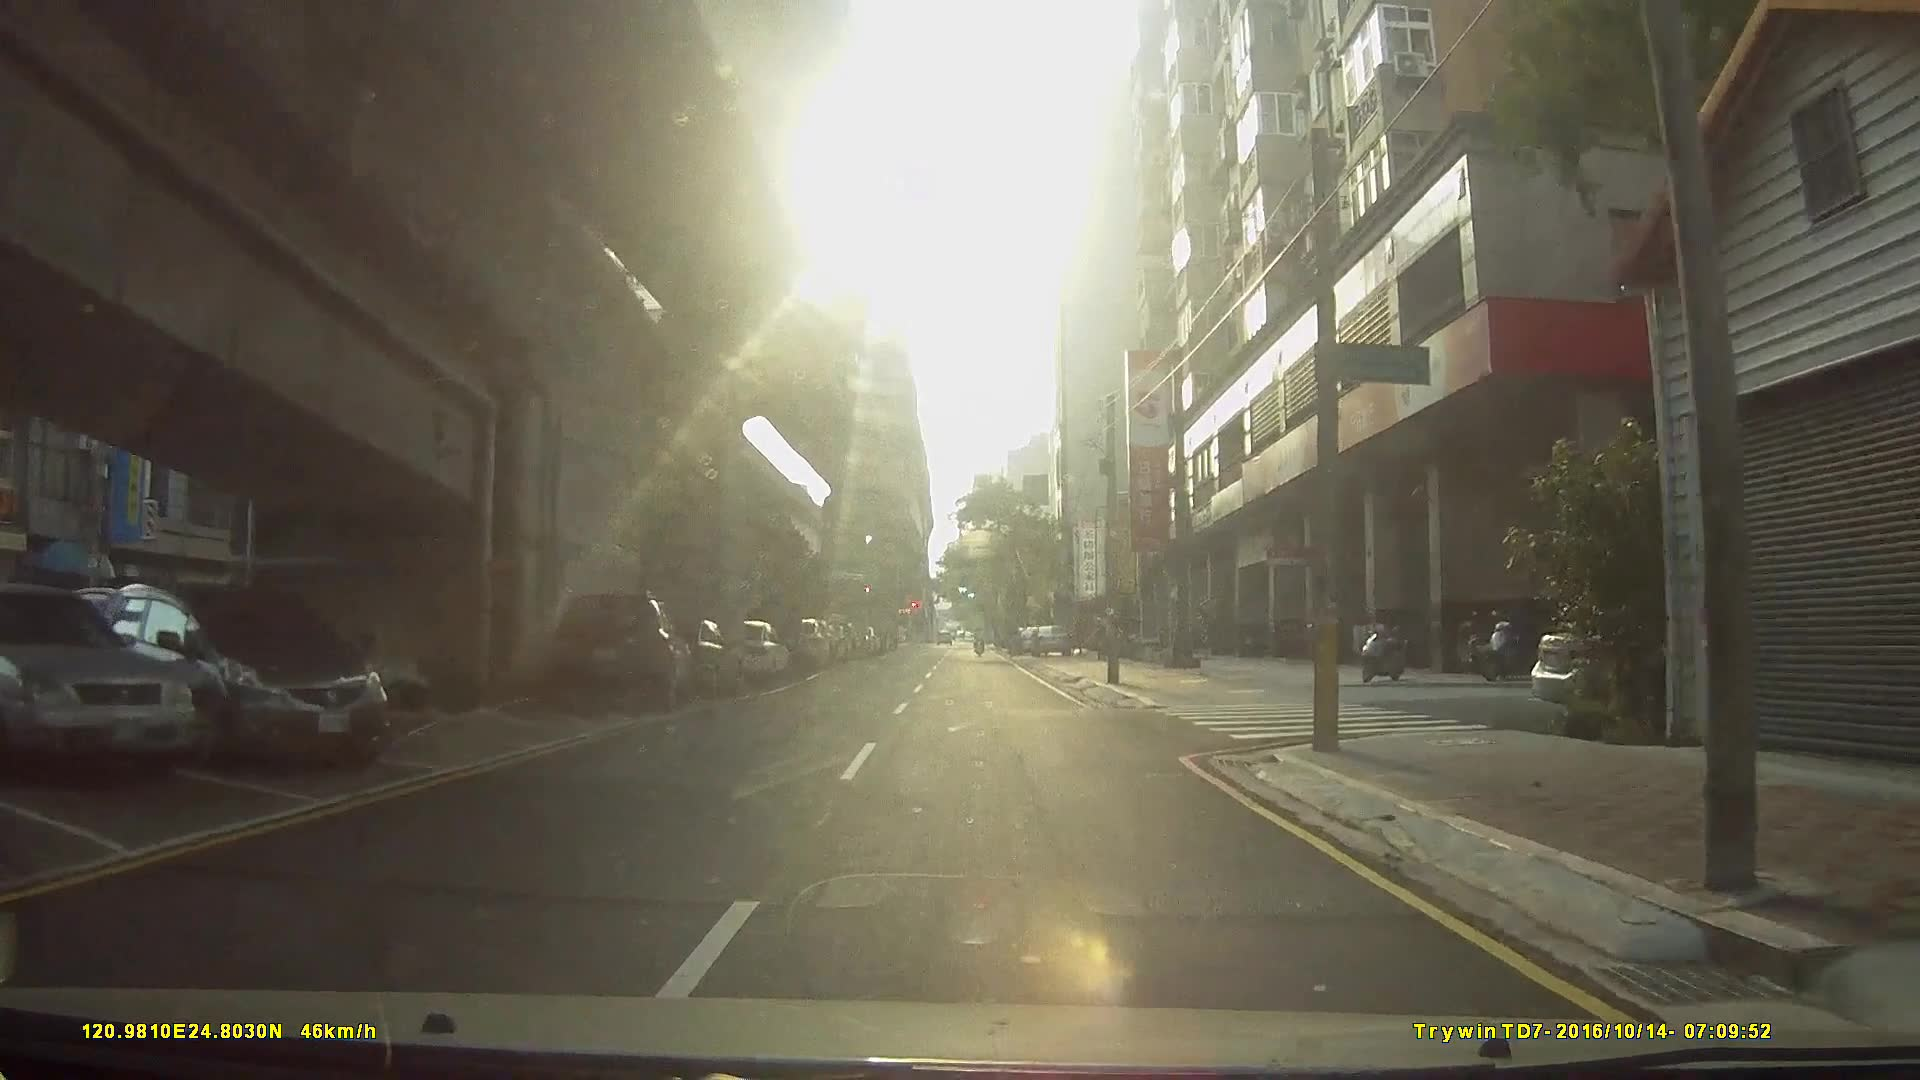vehicle: (83, 578, 386, 766), (0, 583, 194, 778), (549, 589, 694, 705), (1029, 621, 1069, 655)
